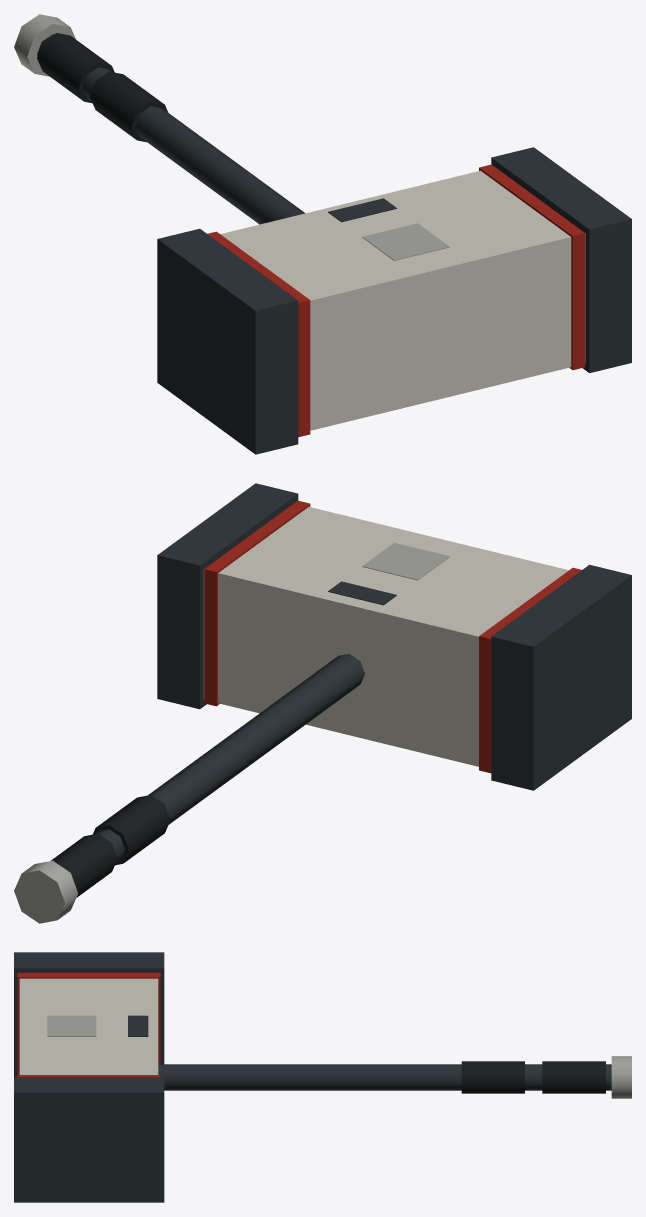
The picture shows the model from 3 angles, top to bottom: view 1: azimuth 30°, elevation 25°; view 2: azimuth 150°, elevation 25°; view 3: azimuth 270°, elevation 25°; orthographic projection. The views are drawn at different scales.
Visible parts, largest first — view 1: weapon-impact-hammer-painted; view 2: weapon-impact-hammer-painted; view 3: weapon-impact-hammer-painted.
Part boxes in pixels (x1,y1,x2,y2): weapon-impact-hammer-painted: [14, 14, 631, 454]; weapon-impact-hammer-painted: [14, 483, 631, 923]; weapon-impact-hammer-painted: [14, 952, 631, 1202].
Size of the model in its own units: 3.25 by 1.19 by 6.05.
